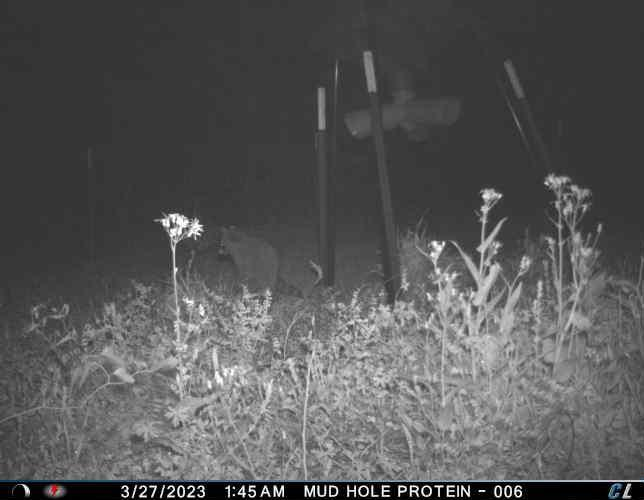Raccoon: (216, 222, 314, 303)
